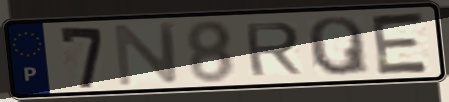7: (57, 24, 105, 90)
8: (183, 17, 238, 85)
E: (368, 10, 433, 77)
N: (111, 20, 182, 89)
Q: (305, 14, 373, 78)
R: (241, 20, 305, 78)
